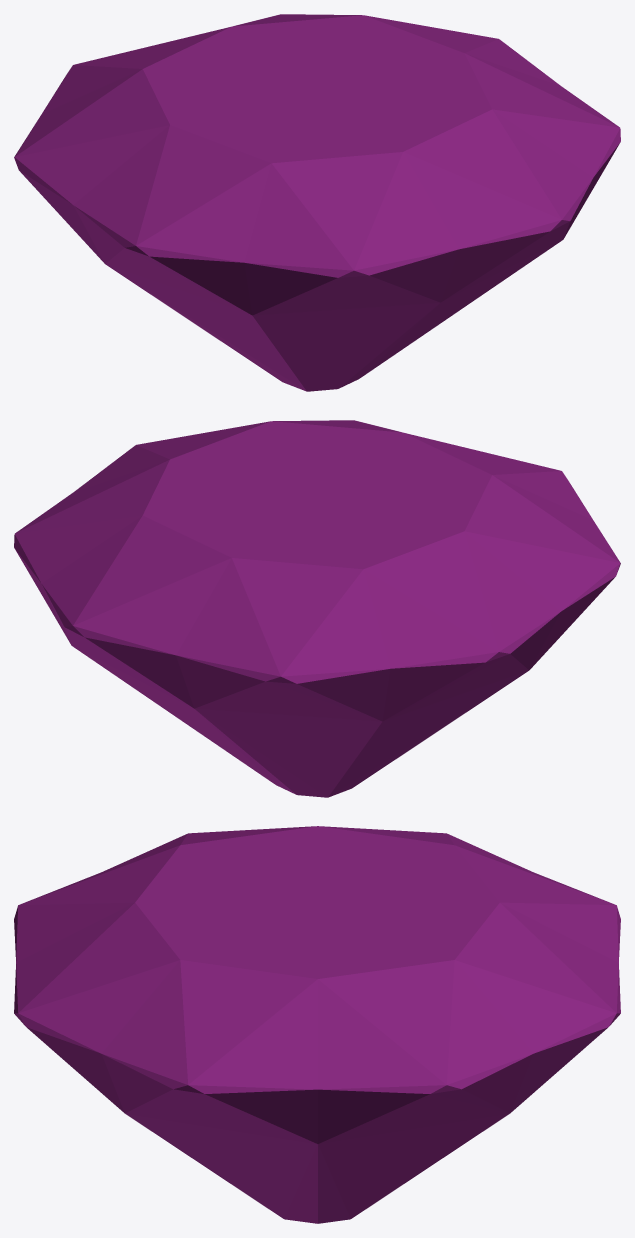
File: Gem011.fbx
3 renders of one model, top to bottom at view 1: azimuth 30°, elevation 25°; view 2: azimuth 150°, elevation 25°; view 3: azimuth 270°, elevation 25°, orthographic. The views are drawn at different scales.
Parts seen in each view (by area): view 1: Gem011; view 2: Gem011; view 3: Gem011.
Part boxes in pixels (bbox=[...]): Gem011: bbox=[14, 14, 620, 391]; Gem011: bbox=[14, 420, 620, 797]; Gem011: bbox=[14, 826, 620, 1223].
Size of the model in its own units: 248 by 137 by 249.
